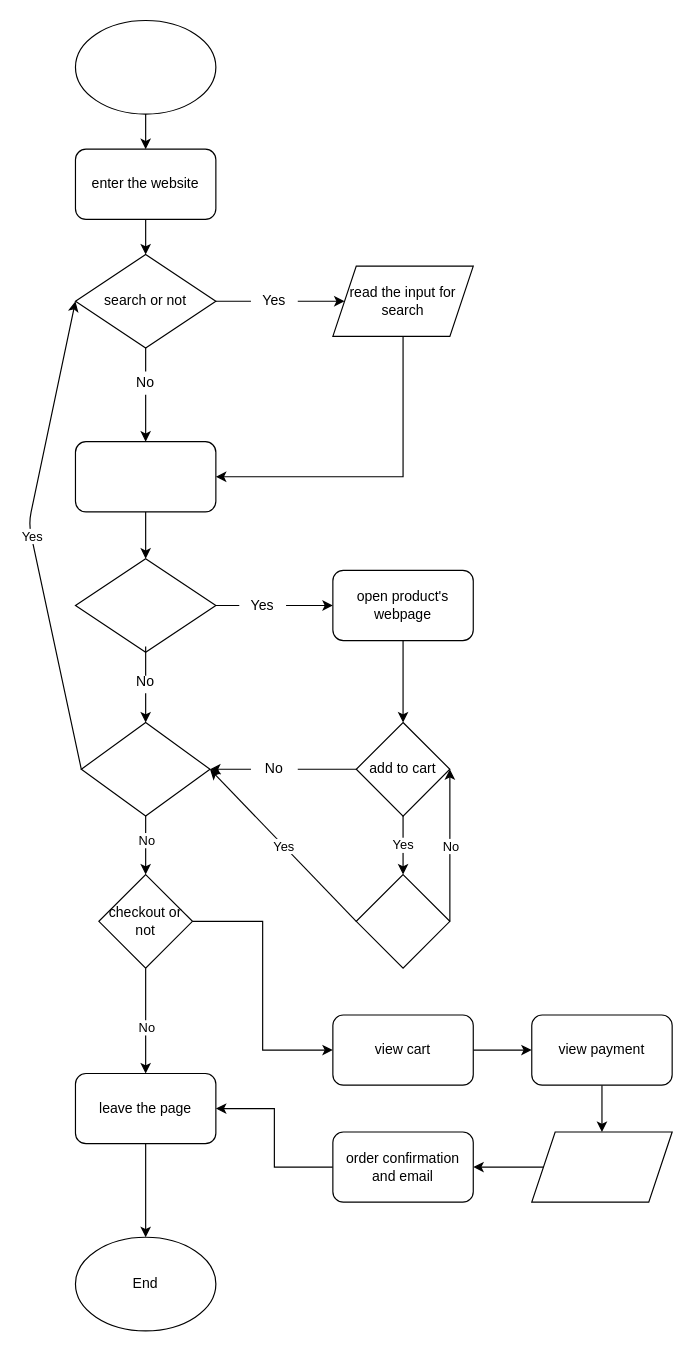
This 693x1351 diagram has some shape labels left out. Here are the shapes that lost their labels. From the top down, the centre of each, then its label:
pixel 145 66: Start
pixel 145 476: Look over the products
pixel 145 605: view a specific product
pixel 145 768: continue shopping or not
pixel 402 920: add to cart confirm
pixel 601 1166: input payment information
